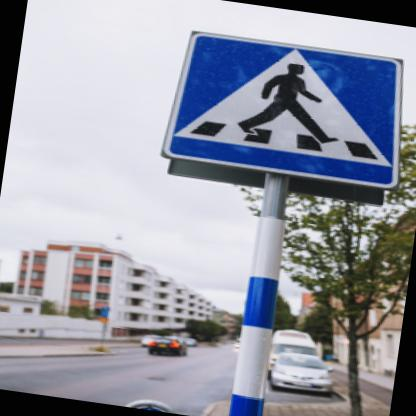crosswalk: (162, 20, 415, 189)
